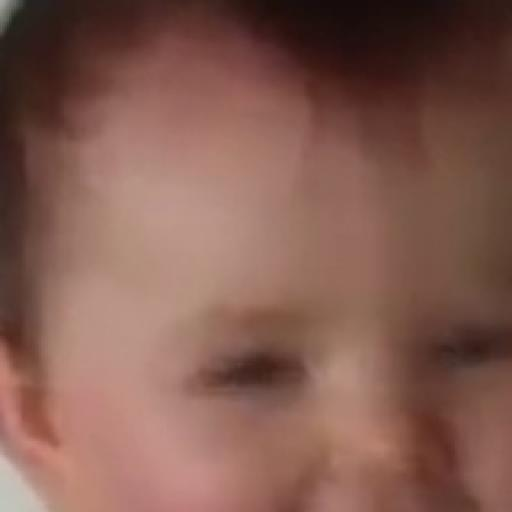Autism: (27, 11, 510, 512)
